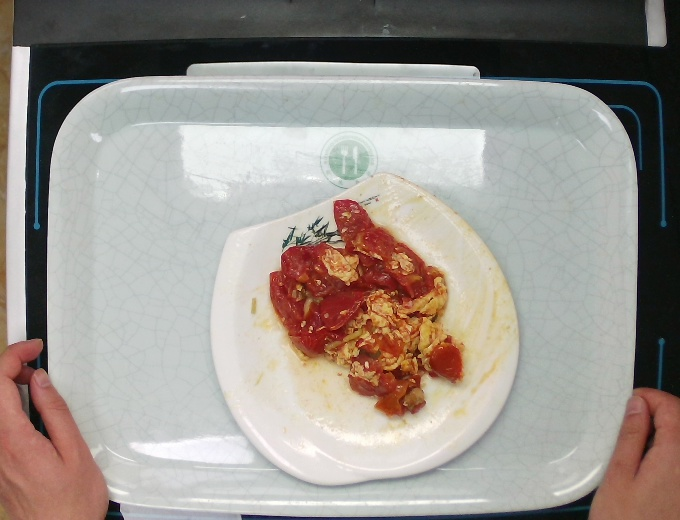JYsf-Mian_Pan: (206, 169, 526, 496)
